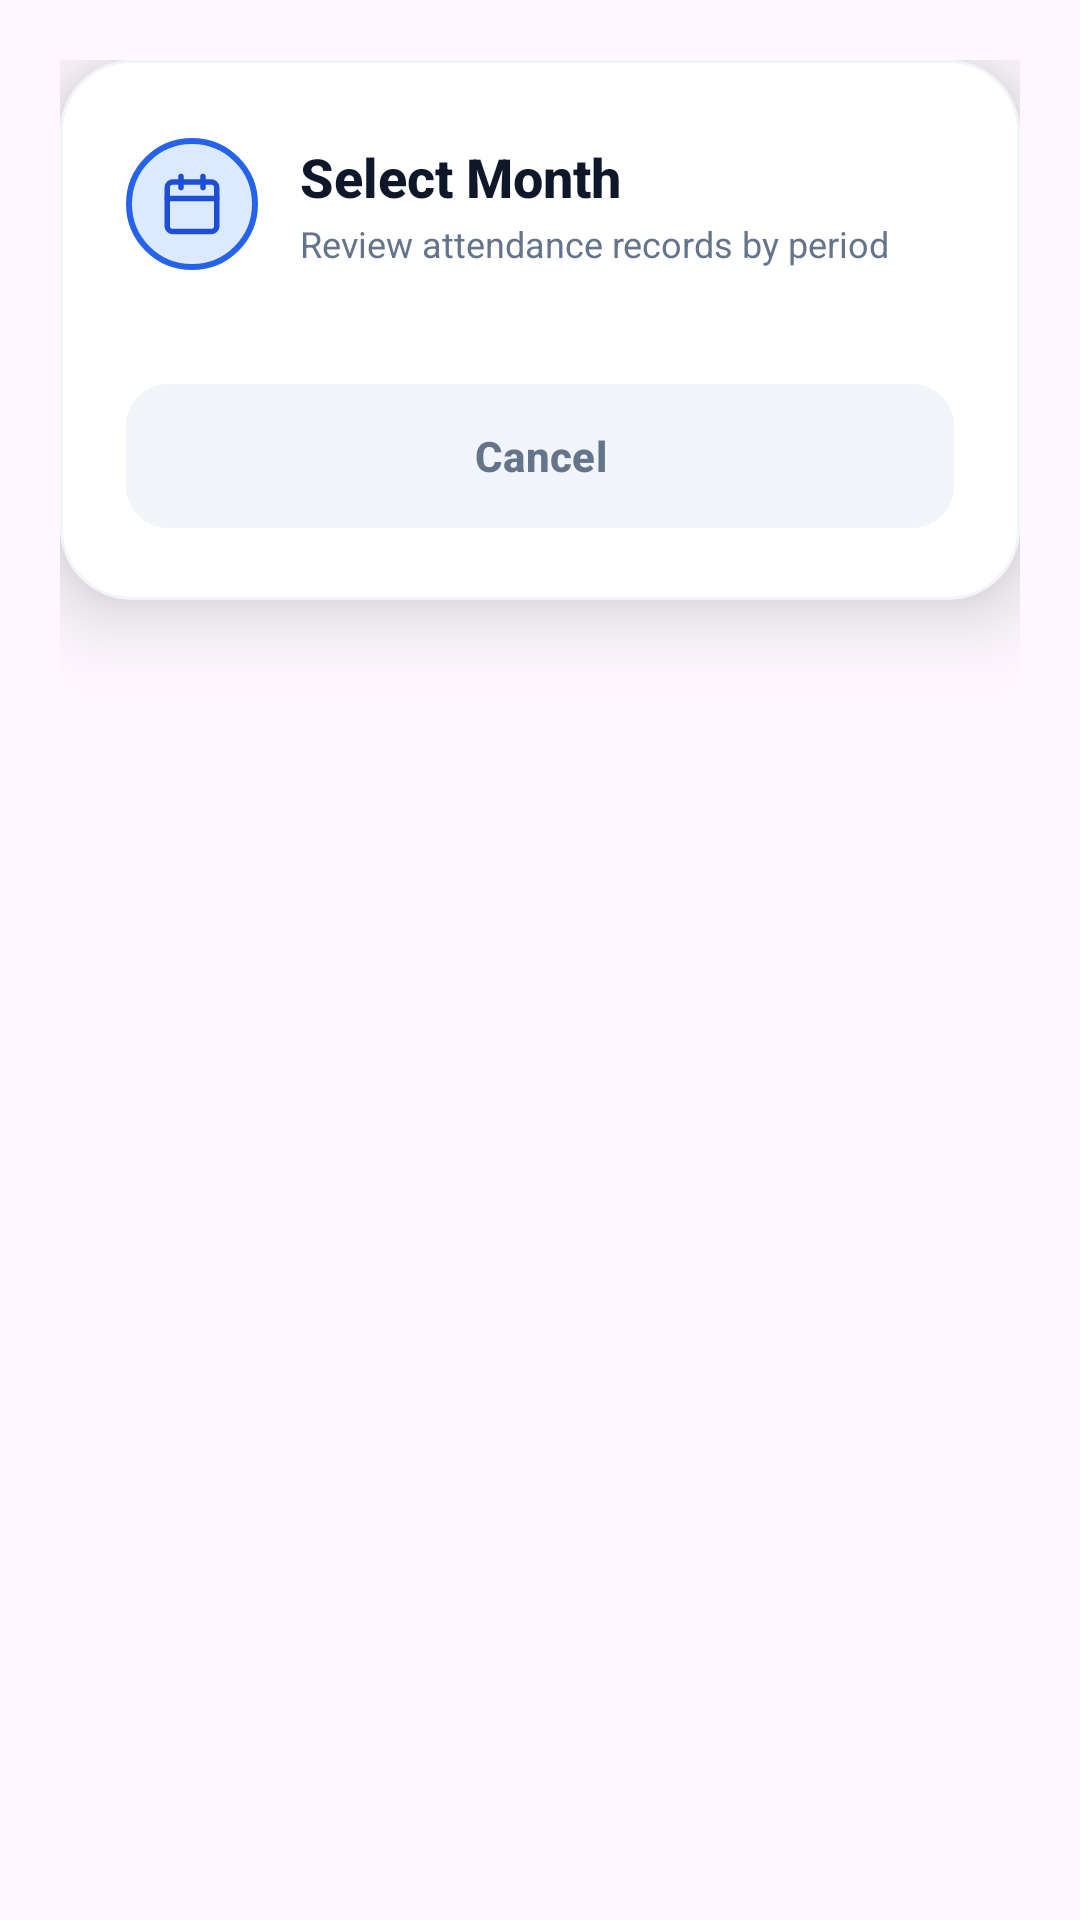

Icon bounding boxes for this 1080w x 1920h phone screenshot, format (x1, y1, x2, y2):
Calendar: (164, 173, 220, 235)
